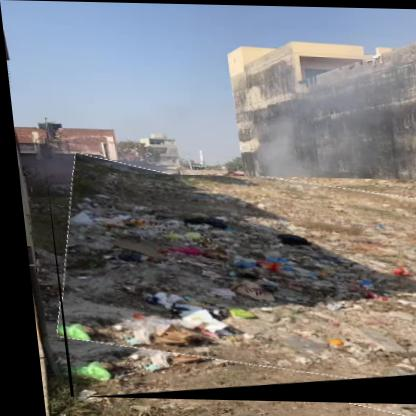Garbage: (42, 172, 416, 406)
